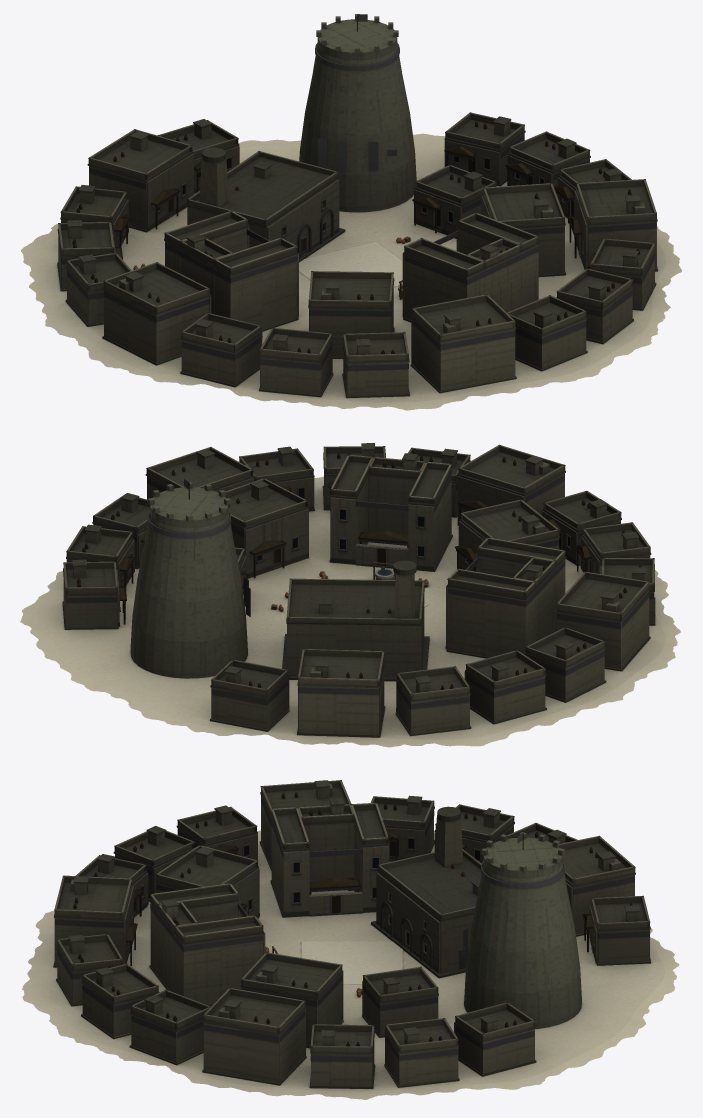
The model's file is classical-town-big-a-eastafrica-af1e0545.glb.
3 renders of one model, top to bottom at view 1: azimuth 30°, elevation 25°; view 2: azimuth 150°, elevation 25°; view 3: azimuth 270°, elevation 25°, orthographic.
Visible parts, largest first — view 1: LOD0; view 2: LOD0; view 3: LOD0.
Boxes of the visible parts, x1=… form: LOD0: x1=21, y1=14, x2=681, y2=410; LOD0: x1=20, y1=443, x2=680, y2=747; LOD0: x1=22, y1=780, x2=679, y2=1099.
Size of what is drawn, in the model's own units: 7.89 by 2.28 by 8.01.
3 materials, 3 textured.
